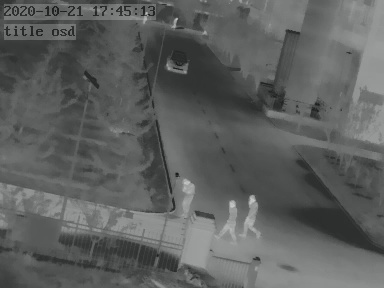person: (245, 192, 262, 238), (221, 198, 239, 241), (180, 174, 195, 218), (171, 15, 178, 29), (142, 11, 149, 25)
vehicle: (163, 50, 189, 74)
